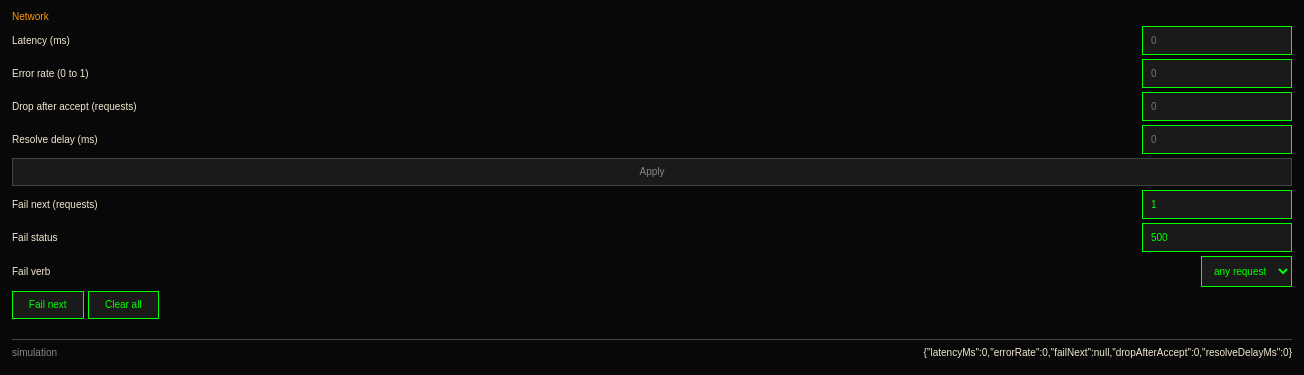
Test: NetworkSection › shows the server's refusal code
Click the button "Clear all": click(123, 305) x1=88 y1=291 x2=159 y2=319
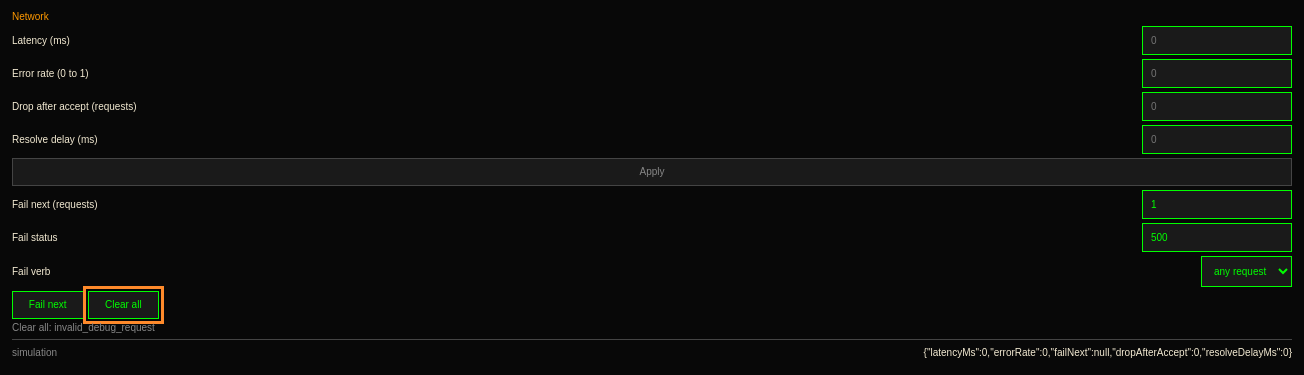
Expected: the text "Clear all: invalid_debug_request" is shown, x1=12 y1=322 x2=155 y2=333
